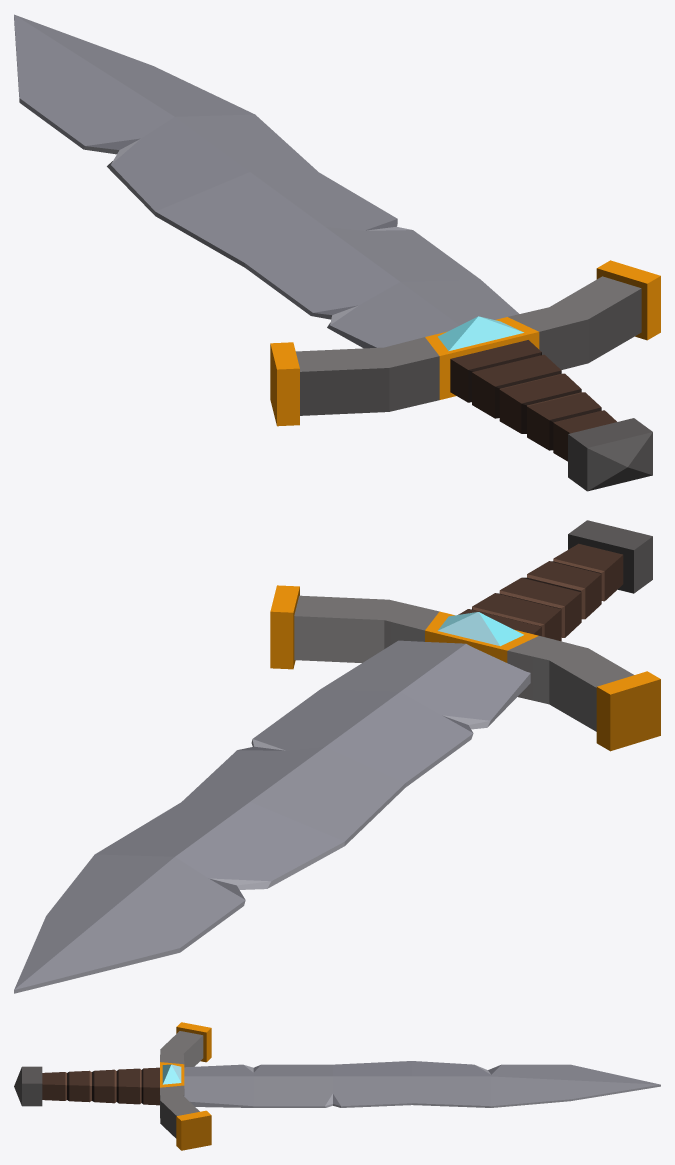
The model's file is Dagger_01.glb.
3 renders of one model, top to bottom at view 1: azimuth 30°, elevation 25°; view 2: azimuth 150°, elevation 25°; view 3: azimuth 270°, elevation 25°, orthographic. The views are drawn at different scales.
Parts seen in each view (by area): view 1: Dagger_01; view 2: Dagger_01; view 3: Dagger_01.
Part boxes in pixels (left/top/right/bottom): Dagger_01: left=14, top=14, right=660, bottom=491; Dagger_01: left=14, top=520, right=660, bottom=993; Dagger_01: left=14, top=1022, right=660, bottom=1150.
Size of what is drawn, in the model's own units: 0.5653 by 0.1151 by 1.56.
1 material, 1 textured.
